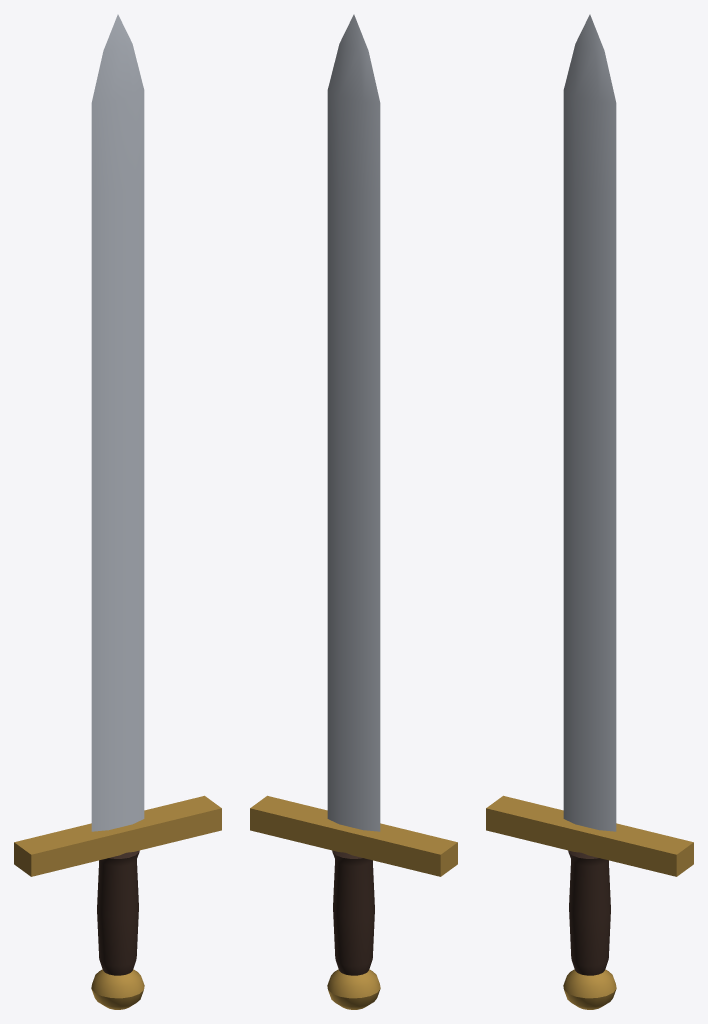
Rendered from sword.arming.glb.
3 views of the same model, side by side, from view 1: azimuth 30°, elevation 25°; view 2: azimuth 150°, elevation 25°; view 3: azimuth 330°, elevation 25° (orthographic).
Visible parts, largest first — view 1: sword.arming; view 2: sword.arming; view 3: sword.arming.
Boxes of the visible parts, left/top/right/bottom form: sword.arming: left=14, top=14, right=221, bottom=1009; sword.arming: left=250, top=14, right=457, bottom=1009; sword.arming: left=486, top=14, right=693, bottom=1009.
Bounding box in the file's own units: 0.18 × 0.896 × 0.044.
